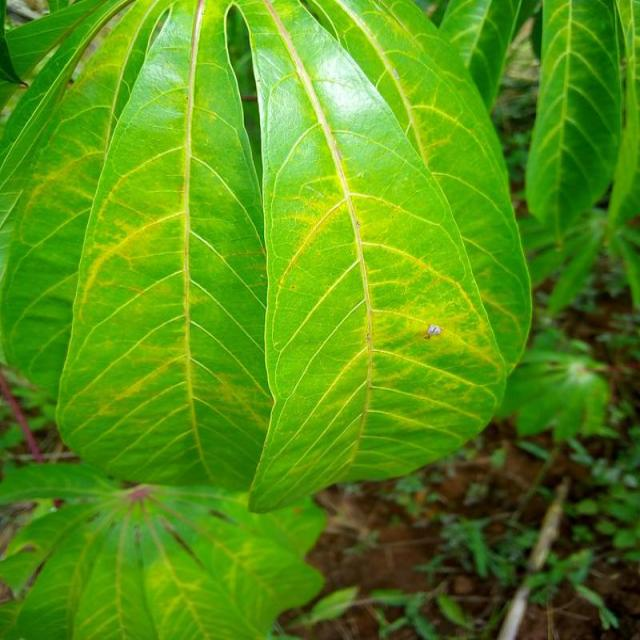cassava leaf: (1, 0, 534, 514), (53, 0, 273, 493)
